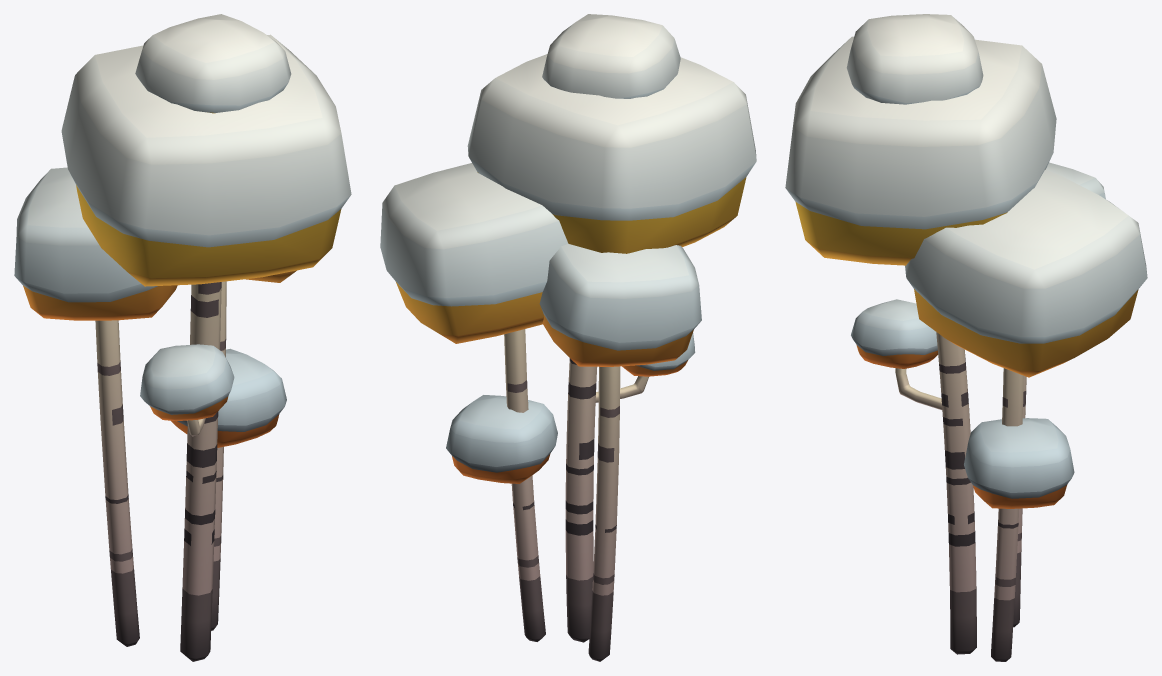
The model's file is birch_tree_col2_05_snow.fbx.
3 views of the same model, side by side, from view 1: azimuth 30°, elevation 25°; view 2: azimuth 150°, elevation 25°; view 3: azimuth 270°, elevation 25° (orthographic). The views are drawn at different scales.
Parts seen in each view (by area): view 1: birch_tree_col2_05_snow; view 2: birch_tree_col2_05_snow; view 3: birch_tree_col2_05_snow.
Part boxes in pixels (x1,y1,x2,y2): birch_tree_col2_05_snow: (14, 14, 351, 661); birch_tree_col2_05_snow: (380, 14, 756, 661); birch_tree_col2_05_snow: (785, 14, 1147, 661).
Bounding box in the file's own units: 435 × 819 × 432.
Materials: 1 (1 with a texture image).
